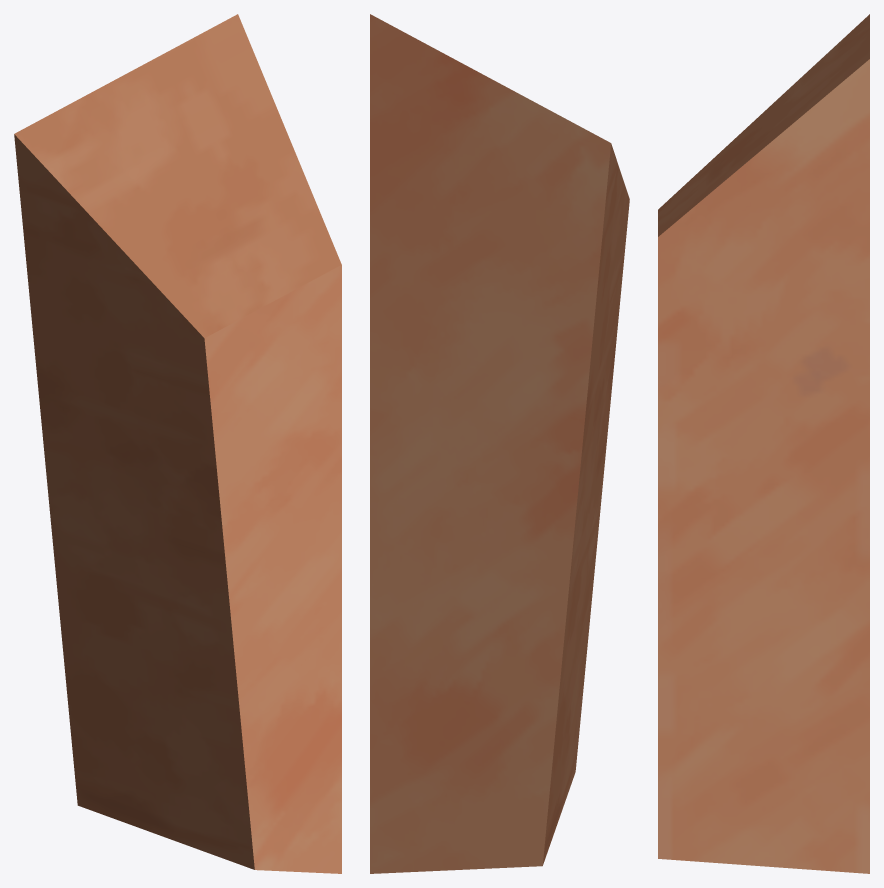
The model's file is wall_upper_window_s02.fbx.
The picture shows the model from 3 angles, left to right: view 1: azimuth 30°, elevation 25°; view 2: azimuth 150°, elevation 25°; view 3: azimuth 270°, elevation 25°; orthographic projection. The views are drawn at different scales.
Visible parts, largest first — view 1: wall_upper_window_s02; view 2: wall_upper_window_s02; view 3: wall_upper_window_s02.
Part boxes in pixels (x1,y1,x2,y2): wall_upper_window_s02: (14, 14, 341, 873); wall_upper_window_s02: (370, 14, 629, 873); wall_upper_window_s02: (658, 14, 869, 873).
Bounding box in the file's own units: 1.24 × 4.24 × 1.
